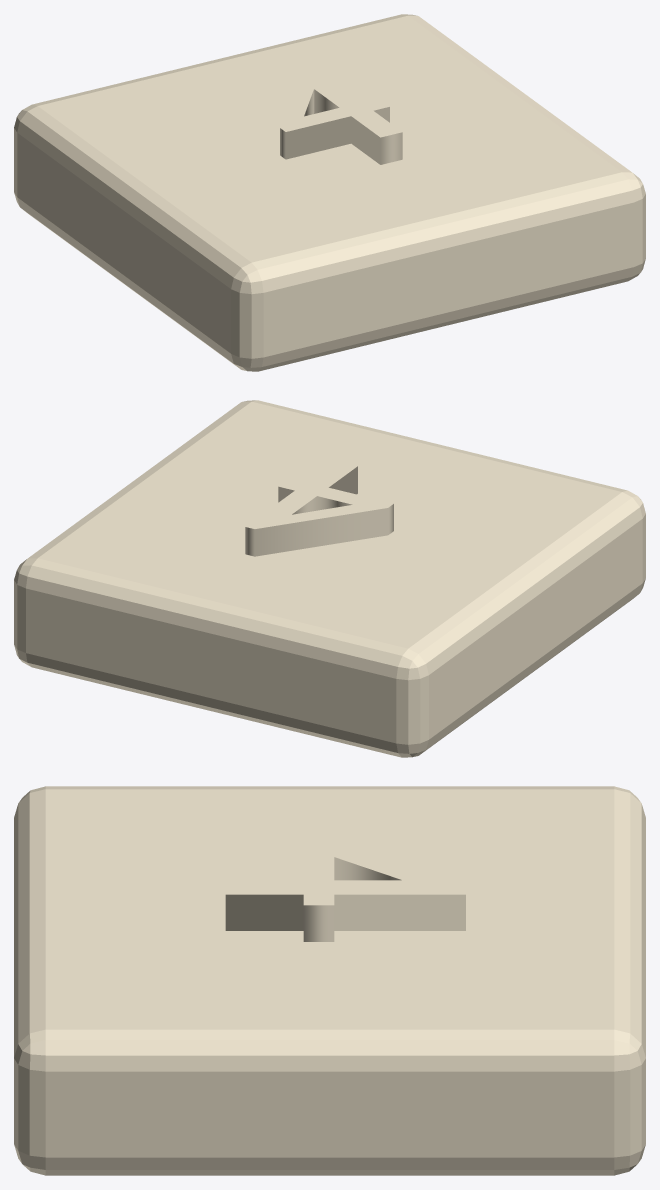
Rendered from Tile_4.fbx.
3 renders of one model, top to bottom at view 1: azimuth 30°, elevation 25°; view 2: azimuth 150°, elevation 25°; view 3: azimuth 270°, elevation 25°, orthographic. The views are drawn at different scales.
Visible parts, largest first — view 1: Tile_4; view 2: Tile_4; view 3: Tile_4.
Part boxes in pixels (x1,y1,x2,y2): Tile_4: [14, 14, 645, 371]; Tile_4: [14, 400, 645, 757]; Tile_4: [14, 786, 645, 1175].
Bounding box in the file's own units: 80 × 25.1 × 80.
